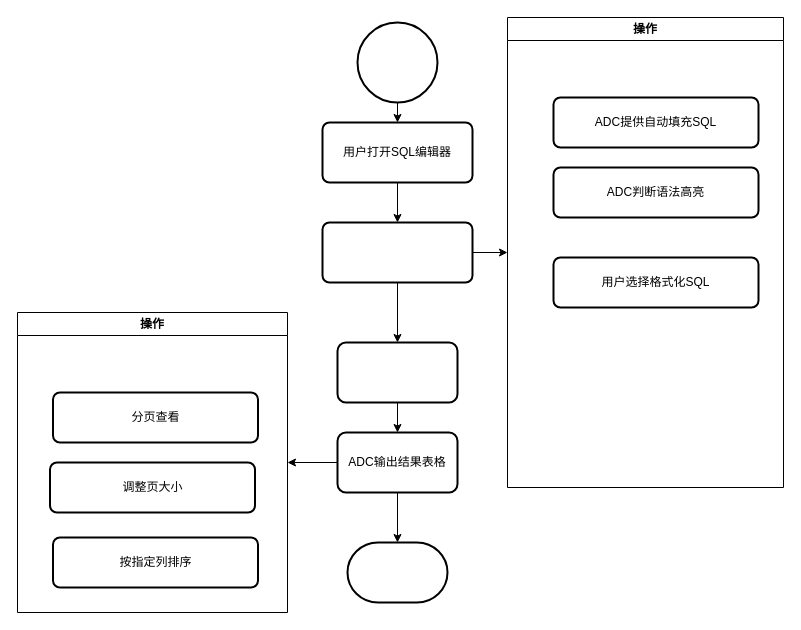
Image size: 801x630. Some labels were removed from this diagram. Here are the shapes that lost their labels. From the top down, the centre of each, then its label:
At point (397, 62): "开始".
At point (397, 252): "用户输入SQL".
At point (397, 372): "用户执行SQL".
At point (397, 572): "结束".
